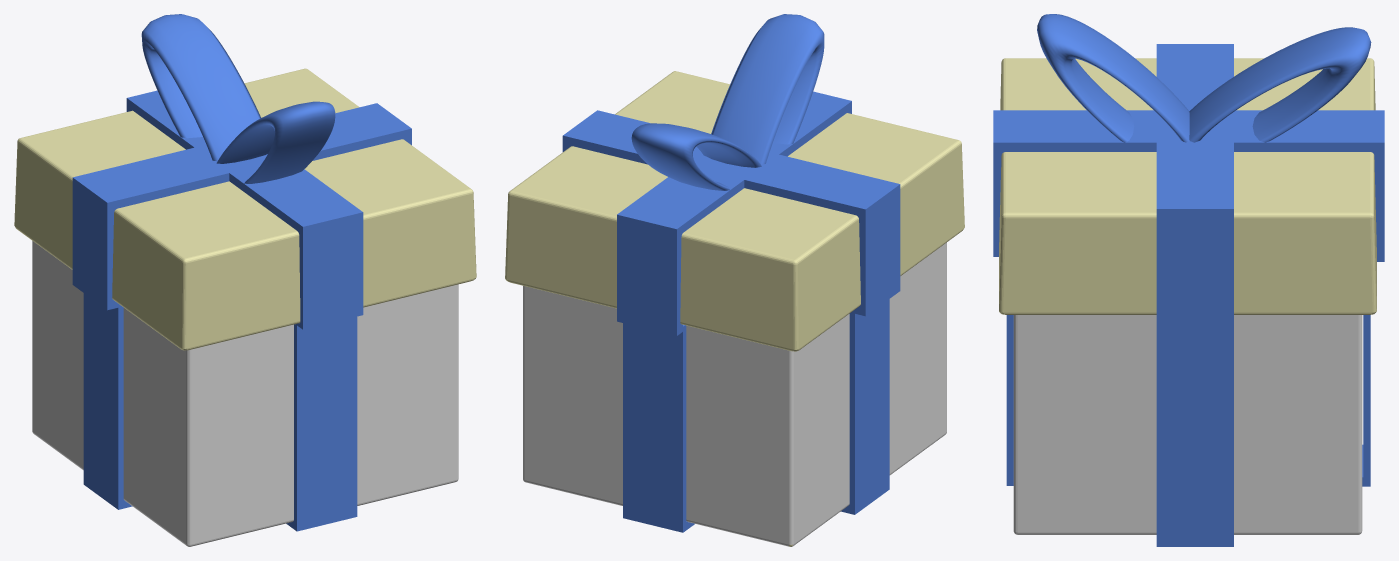
The model's file is 礼物盒3.fbx.
The picture shows the model from 3 angles, left to right: view 1: azimuth 30°, elevation 25°; view 2: azimuth 150°, elevation 25°; view 3: azimuth 270°, elevation 25°; orthographic projection. The views are drawn at different scales.
Parts seen in each view (by area): view 1: 立方体.078, 立方体.076, 立方体.075, 立方体.074, 环体.007, 环体.008; view 2: 立方体.078, 立方体.074, 立方体.076, 环体.008, 环体.007; view 3: 立方体.078, 立方体.077, 立方体.074, 环体.007, 立方体.076, 环体.008, 立方体.075.
Boxes of the visible parts, left/top/right/bottom form: 立方体.078: left=14, top=68, right=476, bottom=546; 立方体.076: left=72, top=105, right=402, bottom=509; 立方体.075: left=286, top=316, right=357, bottom=531; 立方体.074: left=126, top=90, right=363, bottom=329; 环体.007: left=141, top=14, right=260, bottom=161; 环体.008: left=216, top=101, right=335, bottom=183; 立方体.078: left=505, top=71, right=964, bottom=546; 立方体.074: left=617, top=91, right=851, bottom=532; 立方体.076: left=571, top=112, right=900, bottom=514; 环体.008: left=711, top=14, right=824, bottom=164; 环体.007: left=631, top=123, right=761, bottom=190; 立方体.078: left=999, top=58, right=1376, bottom=534; 立方体.077: left=1156, top=204, right=1233, bottom=546; 立方体.074: left=993, top=110, right=1384, bottom=486; 环体.007: left=1189, top=27, right=1371, bottom=142; 立方体.076: left=1156, top=44, right=1233, bottom=204; 环体.008: left=1037, top=14, right=1189, bottom=142; 立方体.075: left=1006, top=315, right=1013, bottom=485.
Size of the model in its own units: 85.68 by 109 by 85.88.
